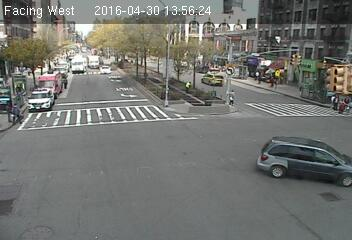neg: (4, 181, 22, 206), (92, 110, 109, 133), (319, 168, 336, 190), (267, 102, 282, 122), (251, 137, 266, 156), (33, 92, 46, 110), (139, 159, 152, 176), (190, 102, 201, 118), (86, 56, 97, 71), (272, 66, 282, 80), (120, 85, 130, 98), (223, 65, 232, 76)
pos: (7, 103, 24, 126), (330, 93, 344, 112), (225, 89, 238, 107), (337, 100, 349, 115), (183, 78, 194, 93), (342, 95, 351, 111)
